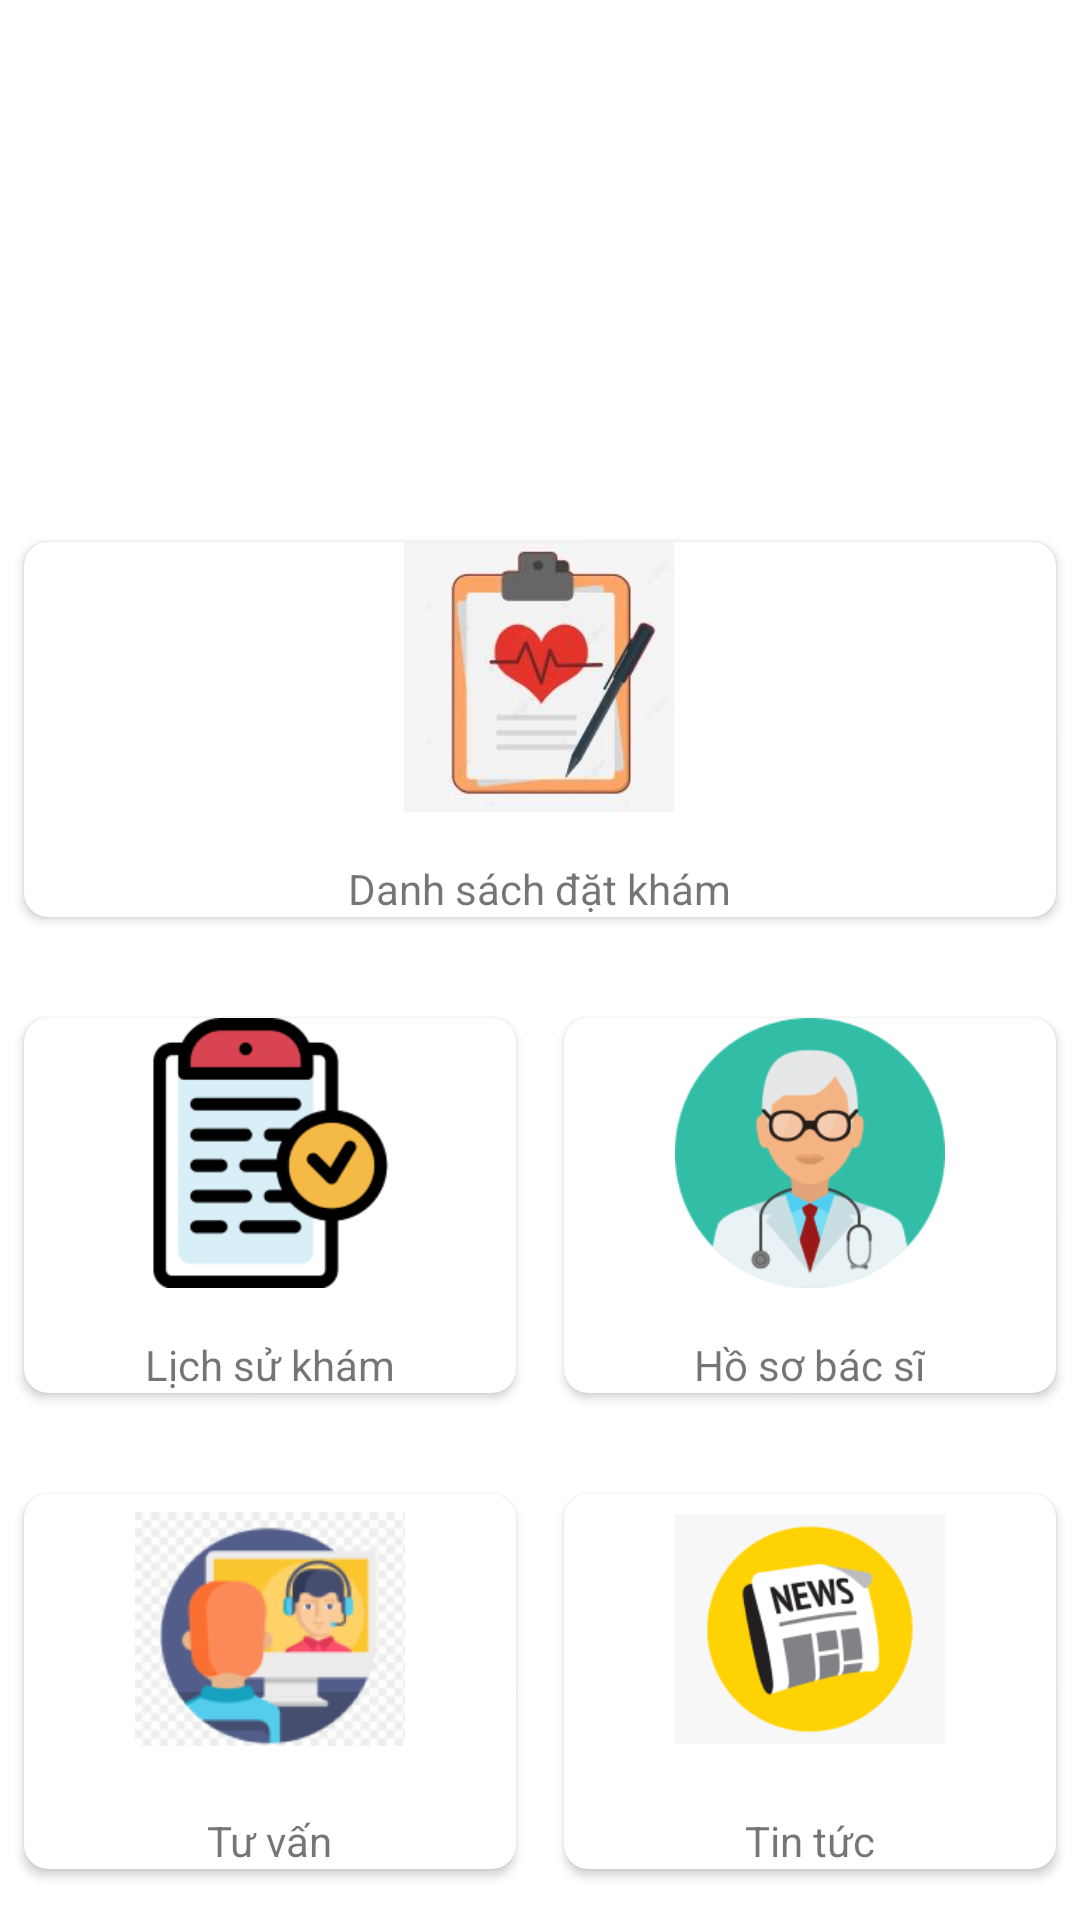

Named icons in this screenshot (1080x1920) and their centers, (x,y):
videocall: (265,1636)
